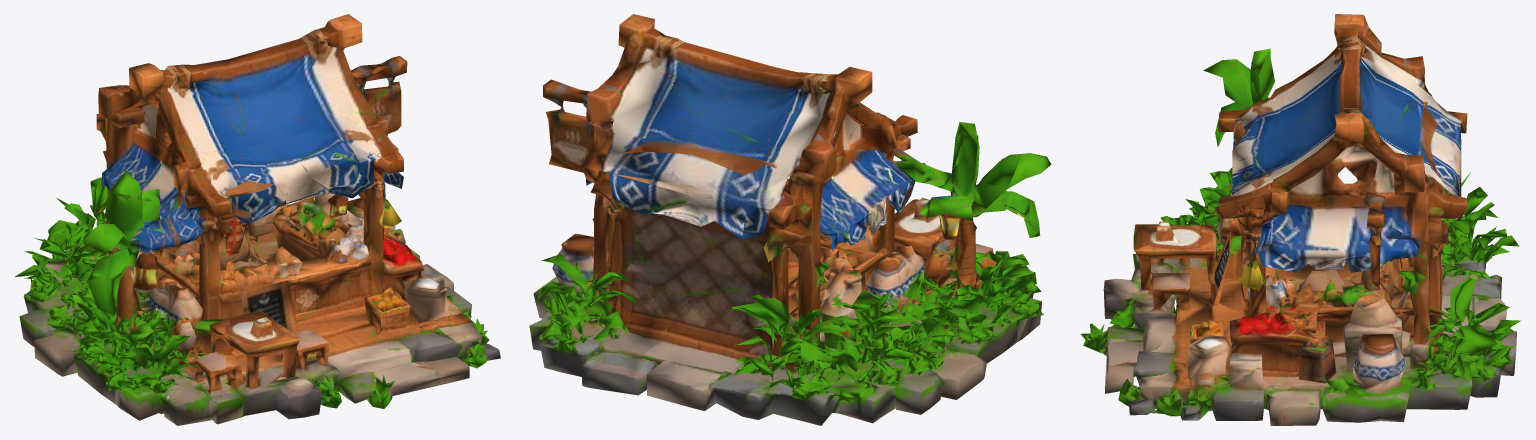
File: market-stall.glb
3 renders of one model, left to right at view 1: azimuth 30°, elevation 25°; view 2: azimuth 150°, elevation 25°; view 3: azimuth 270°, elevation 25°, orthographic. The views are drawn at different scales.
Size of the model in its own units: 1.86 by 1.24 by 1.8.
Materials: 1 (1 with a texture image).
